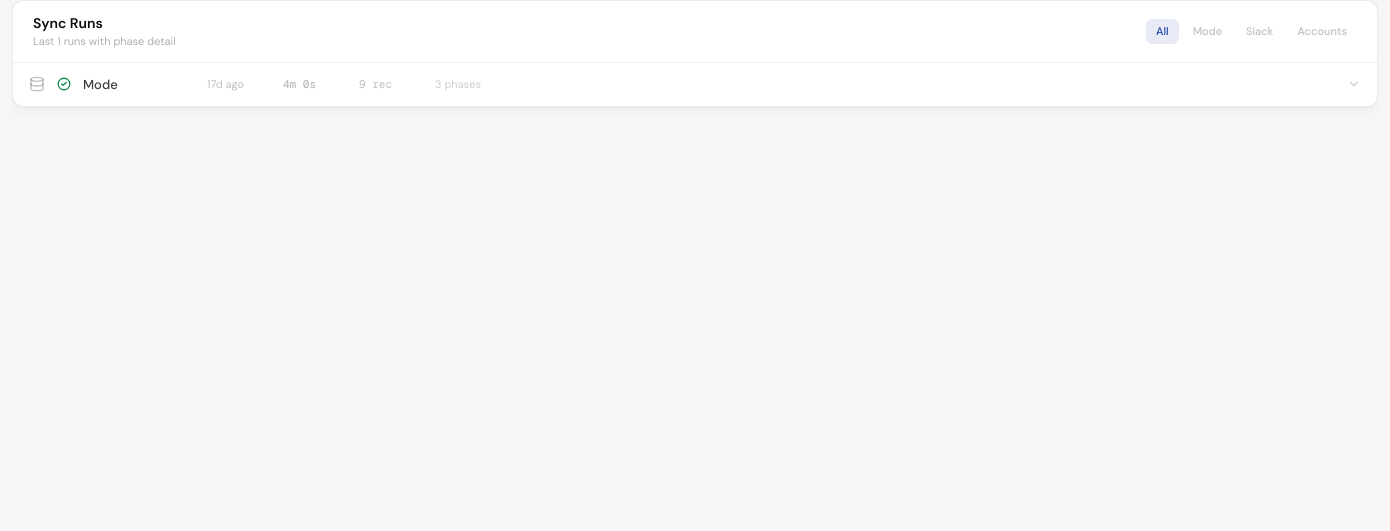
Test: SyncRunLog › renders a summary row and amber phase detail for enriched Mode and Slack phases
Click the button "Mode 17d ago 4m 0s 9 rec 3 phases". click: (100, 84)
box: [13,62,1377,106]
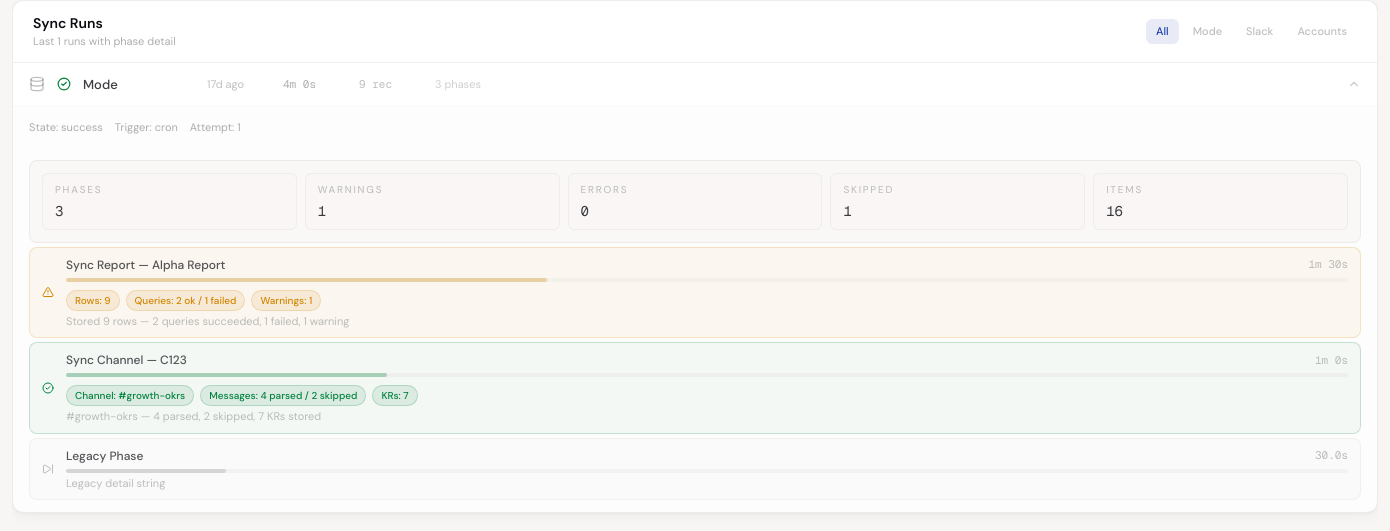
Expected: the element with test id "phase-summary" shows "Phases", [55,182,102,196]
Expected: the element with test id "phase-summary" shows "Warnings", [318,182,383,196]
Expected: the element with test id "phase-summary" shows "1", [318,202,326,220]
